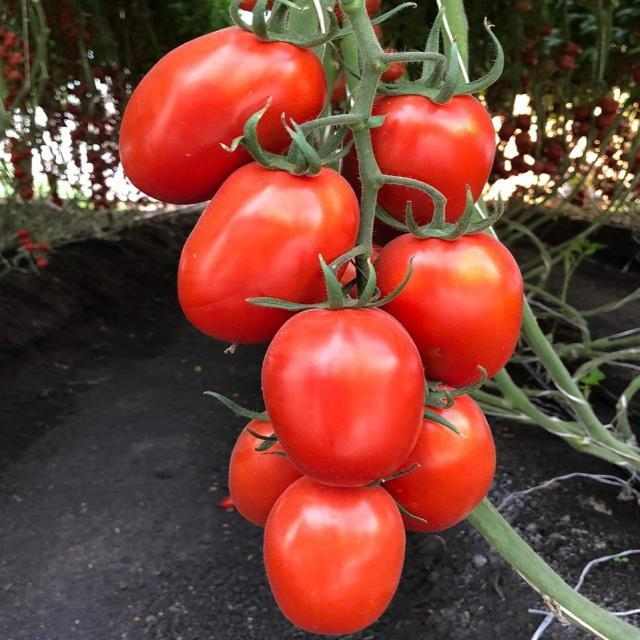kirmizi: (98, 4, 504, 640)
